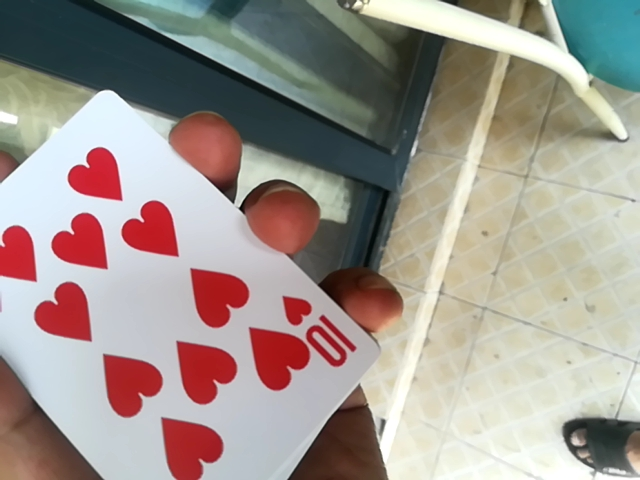hx 10: (2, 90, 367, 473)
